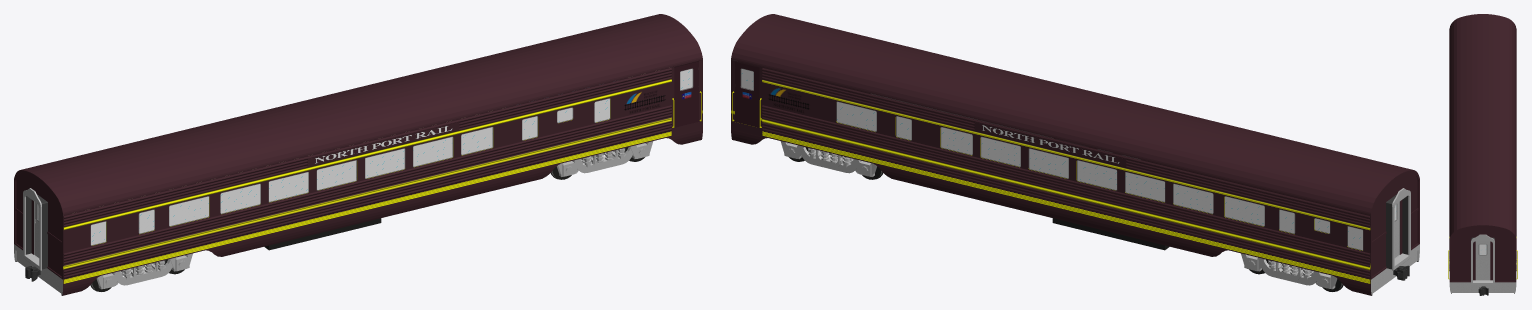
File: pullman_ss_chaircar.obj
3 renders of one model, left to right at view 1: azimuth 30°, elevation 25°; view 2: azimuth 150°, elevation 25°; view 3: azimuth 270°, elevation 25°, orthographic. The views are drawn at different scales.
Visible parts, largest first — view 1: FRAME_roof, lowerflutting, FRAME_mainbodysides, upperflutting, glass, FRAME, bottomflutting, FRAME_frontandrear, Gangway, BOGEY_FRONT, BOGEY_REAR, obj1 (+3 smaller); view 2: FRAME_roof, lowerflutting, FRAME_mainbodysides, upperflutting, glass, FRAME, bottomflutting, FRAME_frontandrear, Gangway, BOGEY_FRONT, obj1, BOGEY_REAR (+3 smaller); view 3: FRAME_roof, FRAME_frontandrear, FRAME, FRAME_gangwaydoors, Gangway, upperflutting, couplers, glass, FRAME_handrails, lowerflutting.
Boxes of the visible parts, left/top/right/bottom form: FRAME_roof: left=21, top=14, right=702, bottom=215; lowerflutting: left=63, top=105, right=671, bottom=278; FRAME_mainbodysides: left=63, top=60, right=702, bottom=279; upperflutting: left=63, top=68, right=671, bottom=230; glass: left=37, top=69, right=692, bottom=245; FRAME: left=14, top=124, right=702, bottom=295; bottomflutting: left=63, top=131, right=671, bottom=283; FRAME_frontandrear: left=14, top=14, right=702, bottom=279; Gangway: left=23, top=188, right=47, bottom=270; BOGEY_FRONT: left=96, top=253, right=192, bottom=289; BOGEY_REAR: left=557, top=141, right=653, bottom=176; obj1: left=90, top=98, right=610, bottom=245; FRAME_roof: left=731, top=14, right=1412, bottom=215; lowerflutting: left=762, top=105, right=1370, bottom=278; FRAME_mainbodysides: left=731, top=60, right=1370, bottom=279; upperflutting: left=762, top=68, right=1370, bottom=230; glass: left=741, top=69, right=1396, bottom=249; FRAME: left=731, top=124, right=1419, bottom=295; bottomflutting: left=762, top=131, right=1370, bottom=283; FRAME_frontandrear: left=731, top=14, right=1419, bottom=279; Gangway: left=1386, top=188, right=1410, bottom=270; BOGEY_FRONT: left=1241, top=253, right=1337, bottom=289; obj1: left=836, top=101, right=1363, bottom=250; BOGEY_REAR: left=780, top=141, right=876, bottom=176; FRAME_roof: left=1449, top=14, right=1516, bottom=238; FRAME_frontandrear: left=1449, top=14, right=1516, bottom=282; FRAME: left=1449, top=282, right=1516, bottom=293; FRAME_gangwaydoors: left=1475, top=241, right=1490, bottom=280; Gangway: left=1471, top=234, right=1494, bottom=284; upperflutting: left=1449, top=29, right=1516, bottom=237; couplers: left=1478, top=286, right=1488, bottom=295; glass: left=1479, top=244, right=1486, bottom=254; FRAME_handrails: left=1448, top=250, right=1517, bottom=279; lowerflutting: left=1449, top=238, right=1516, bottom=270.
Size of the model in its own units: 24.5 by 4.2 by 3.29.
Materials: 4 (4 with a texture image).
